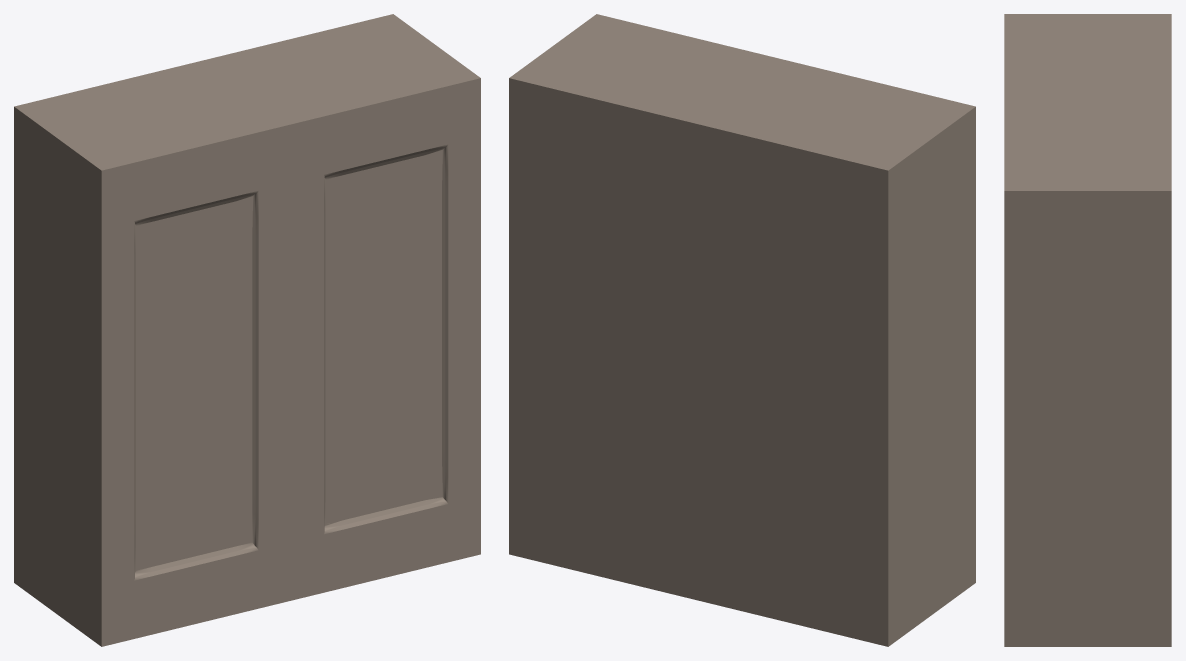
The model's file is Wall-Cabinet-21-High-12-Deep_std_001_H36in_onlyH.glb.
The picture shows the model from 3 angles, left to right: view 1: azimuth 30°, elevation 25°; view 2: azimuth 150°, elevation 25°; view 3: azimuth 270°, elevation 25°; orthographic projection. The views are drawn at different scales.
Visible parts, largest first — view 1: Wall-Cabinet-21-High-12-Deep.std.001_H36in_onlyH; view 2: Wall-Cabinet-21-High-12-Deep.std.001_H36in_onlyH; view 3: Wall-Cabinet-21-High-12-Deep.std.001_H36in_onlyH.
Part boxes in pixels (x1,y1,x2,y2): Wall-Cabinet-21-High-12-Deep.std.001_H36in_onlyH: (14,14,480,646); Wall-Cabinet-21-High-12-Deep.std.001_H36in_onlyH: (509,14,975,646); Wall-Cabinet-21-High-12-Deep.std.001_H36in_onlyH: (1004,14,1171,646).
Bounding box in the file's own units: 0.762 × 0.9144 × 0.3048.
